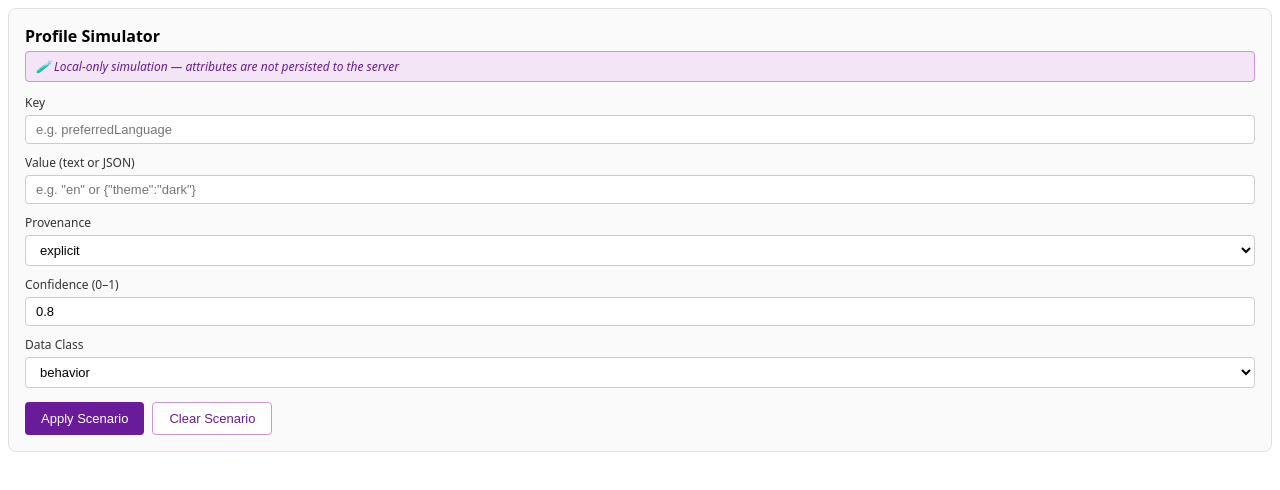
Test: ProfileSimulator › validation: confidence outside [0,1] (Req 11.6) › shows field-level error when confidence > 1
The width and height of the screenshot is (1280, 490).
Step 1. Replace the text in the number field with test id "ps-confidence-input" with "1.5" → (640,312), box [25, 297, 1255, 326]
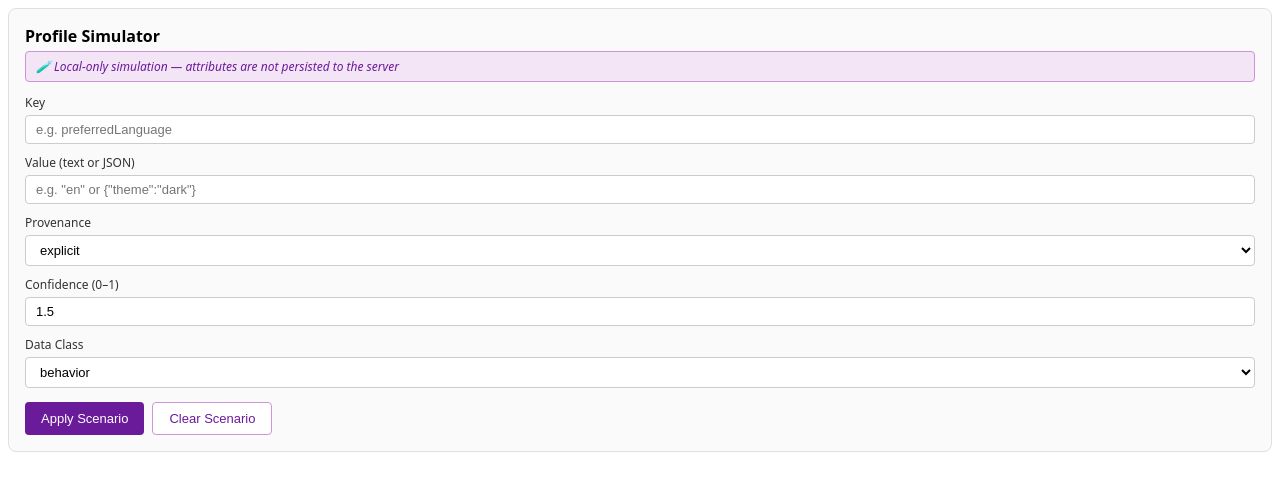
Step 2. Click the button with test id "ps-apply-button" → (85,418), box [25, 402, 144, 435]
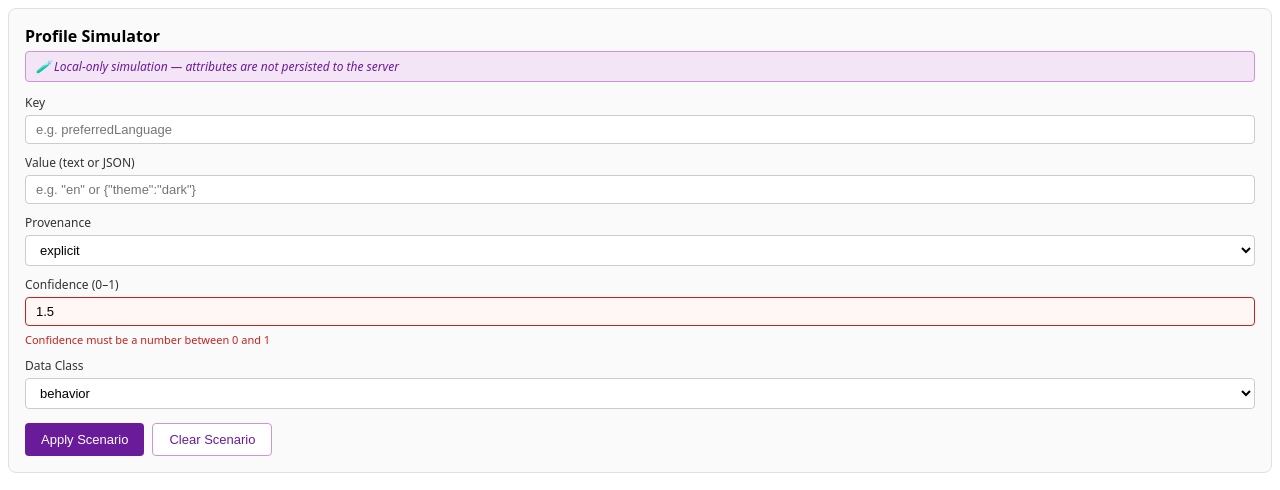
Expected: the message with test id "ps-confidence-error" shows "between 0 and 1", [25, 332, 270, 347]
